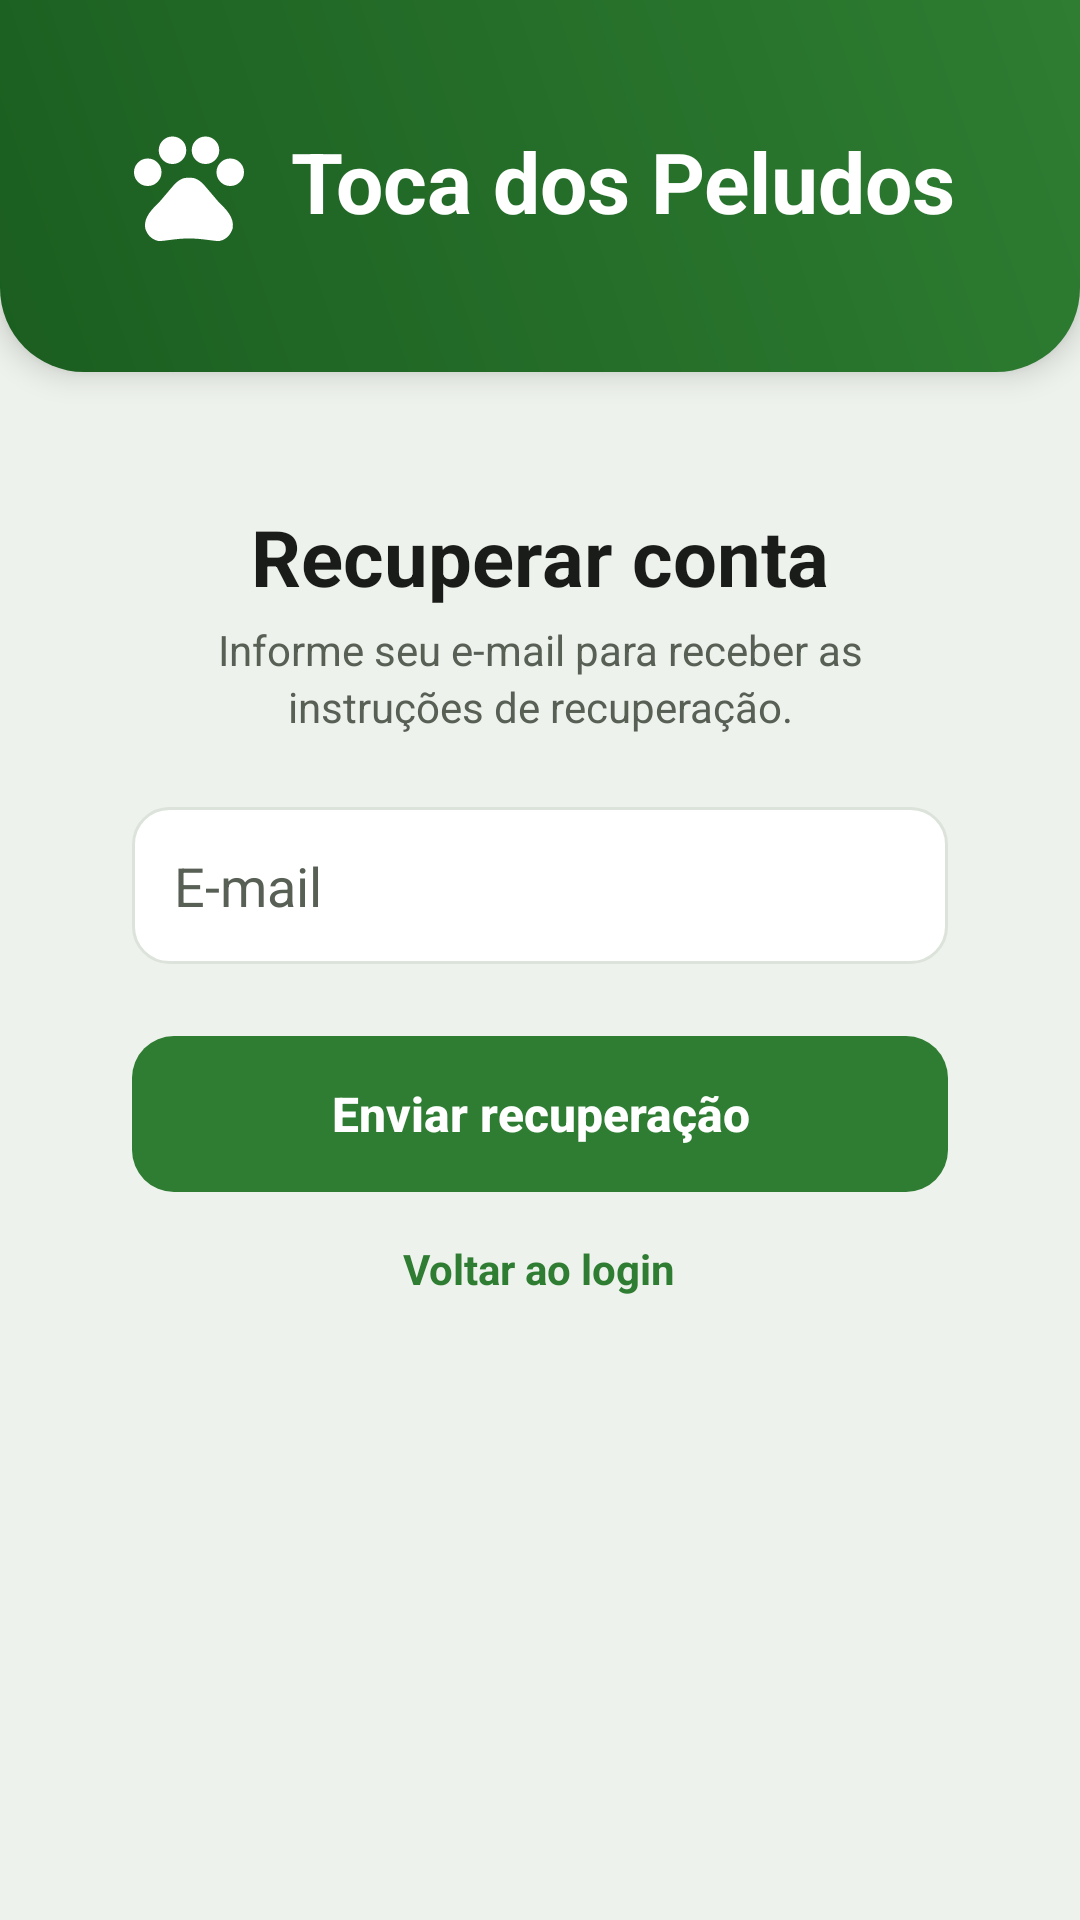

Screen size 1080w x 1920h. Icon name, then its center in pixels as [x,y]:
pata: [189,188]
